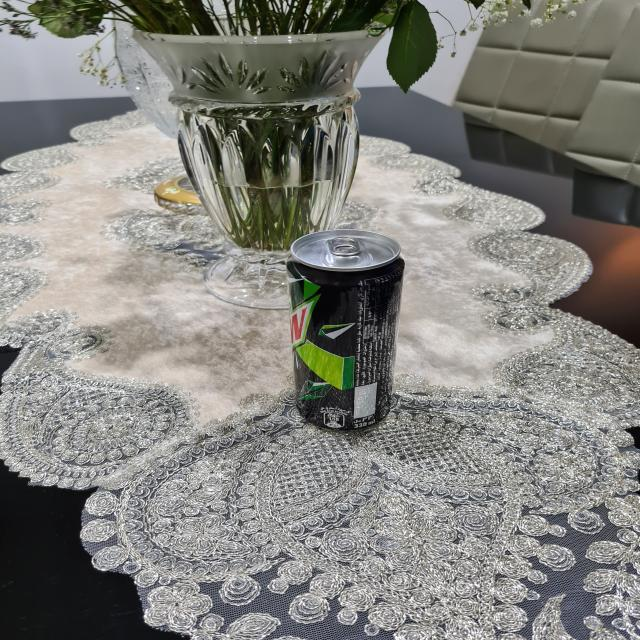can: (284, 228, 406, 434)
